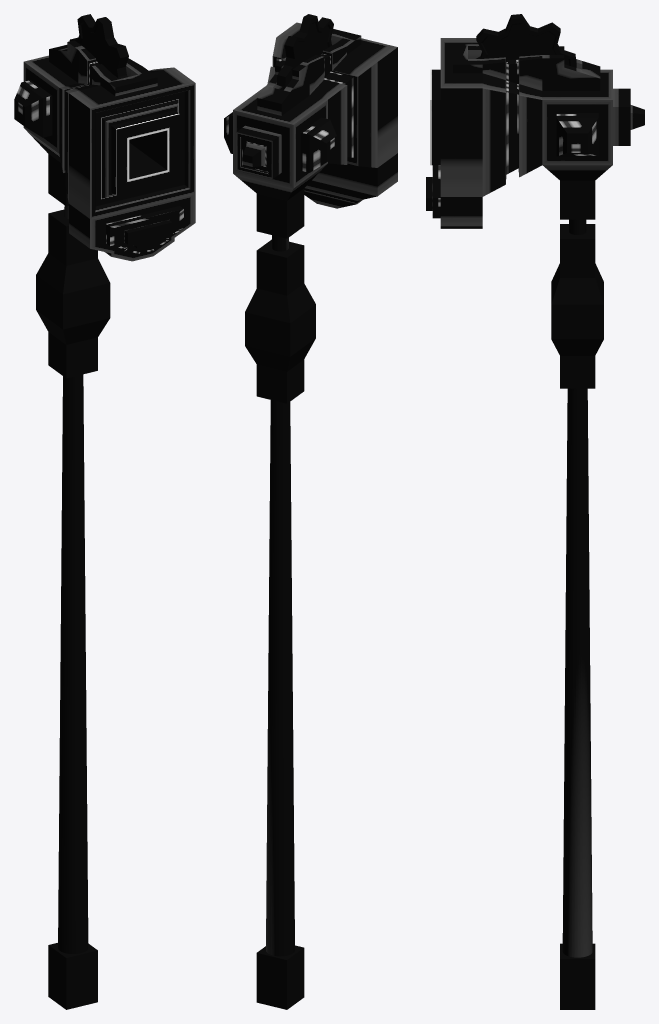
Rendered from Dispenser_2_0.fbx.
3 renders of one model, left to right at view 1: azimuth 30°, elevation 25°; view 2: azimuth 150°, elevation 25°; view 3: azimuth 270°, elevation 25°, orthographic. The views are drawn at different scales.
Parts seen in each view (by area): view 1: Dispenser, Dispenser_Prop_0, Dispenser_Prop_1, Gear; view 2: Dispenser, Dispenser_Prop_0, Dispenser_Prop_1, Gear; view 3: Dispenser, Dispenser_Prop_0, Dispenser_Prop_1, Gear.
Part boxes in pixels (x1,y1,x2,y2): Dispenser: (14,40,195,261); Dispenser_Prop_0: (48,154,97,1009); Dispenser_Prop_1: (36,209,110,378); Gear: (69,14,128,78); Dispenser: (224,22,397,208); Dispenser_Prop_0: (256,188,304,1009); Dispenser_Prop_1: (245,239,315,403); Gear: (276,14,333,89); Dispenser: (426,38,644,228); Dispenser_Prop_0: (560,180,595,1009); Dispenser_Prop_1: (551,224,603,388); Gear: (476,14,576,67).
Size of the model in its own units: 1.01 by 9.08 by 1.83.
1 material, 1 textured.
